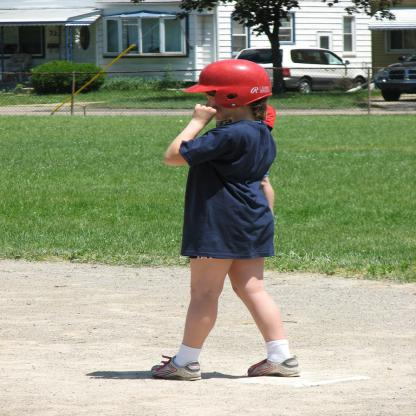Helmet: (192, 55, 279, 113)
